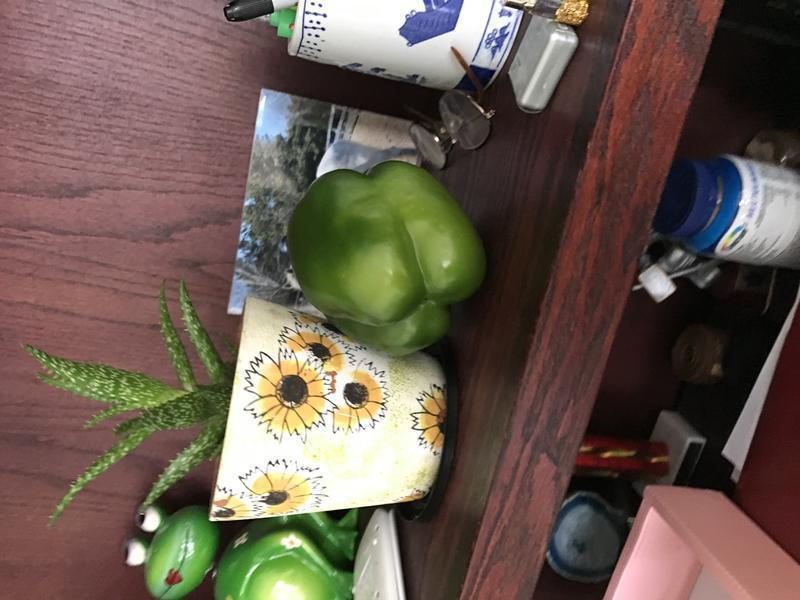green_pepper: (280, 152, 495, 360)
